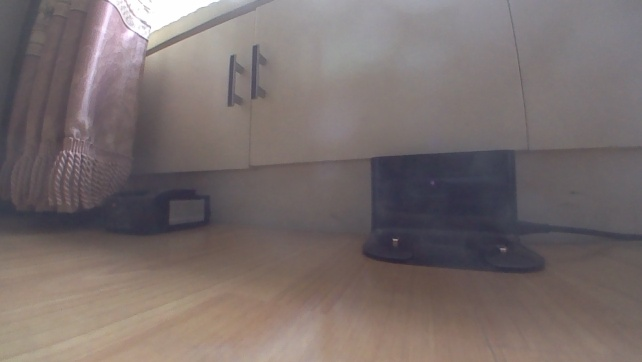charger: (360, 148, 546, 273)
wire: (516, 216, 641, 242)
